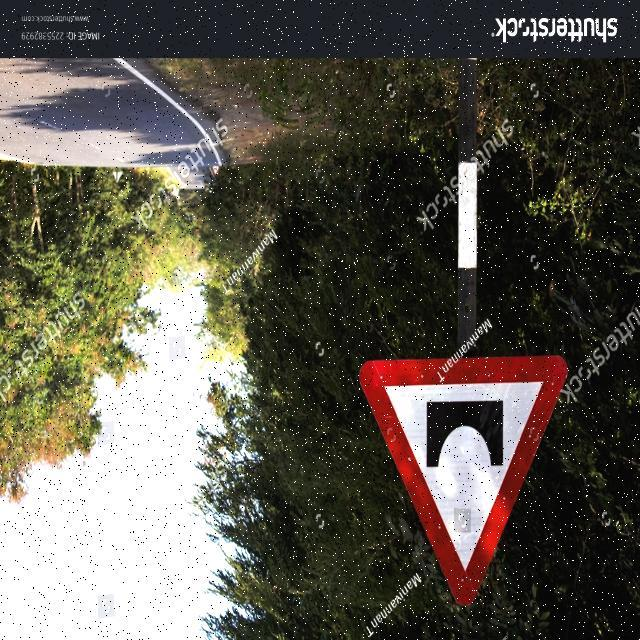Traffic sign: (350, 349, 570, 611)
